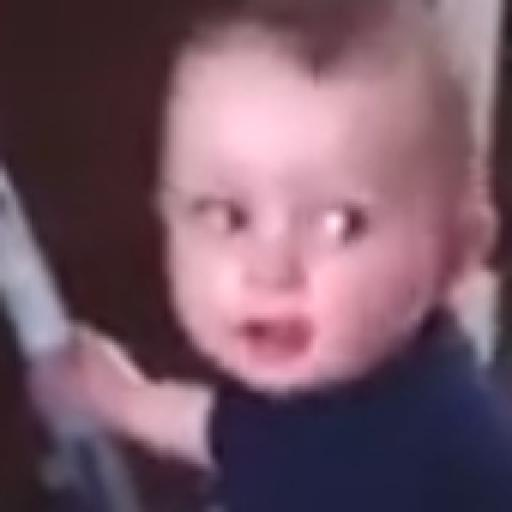Autism: (164, 35, 487, 374)
